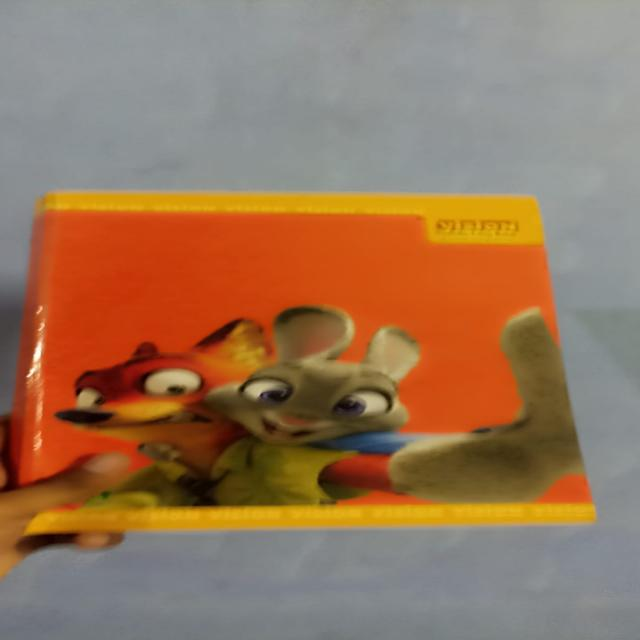book: (36, 186, 588, 530)
